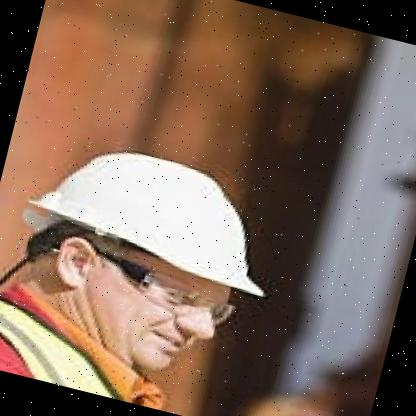capacete: (0, 123, 299, 312)
oculos: (108, 258, 233, 330)
